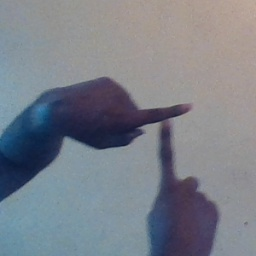T: (112, 83, 219, 211)
